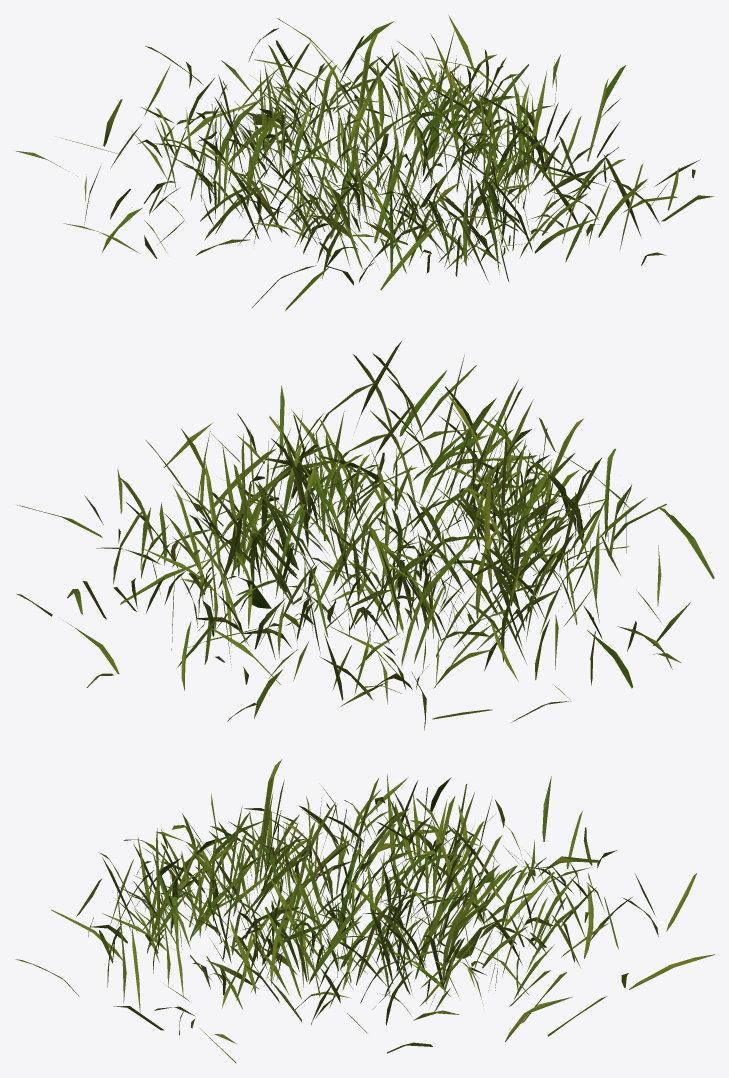
Rendered from Grass_Tall_02.glb.
The picture shows the model from 3 angles, top to bottom: view 1: azimuth 30°, elevation 25°; view 2: azimuth 150°, elevation 25°; view 3: azimuth 270°, elevation 25°; orthographic projection. The views are drawn at different scales.
Parts seen in each view (by area): view 1: Grass_Tall_02; view 2: Grass_Tall_02; view 3: Grass_Tall_02.
Boxes of the visible parts, x1,y1,x2,y2 form: Grass_Tall_02: (14, 15, 714, 310); Grass_Tall_02: (16, 341, 714, 730); Grass_Tall_02: (15, 759, 714, 1063).
Bounding box in the file's own units: 1.33 × 0.3 × 1.41.
Materials: 1 (1 with a texture image).
